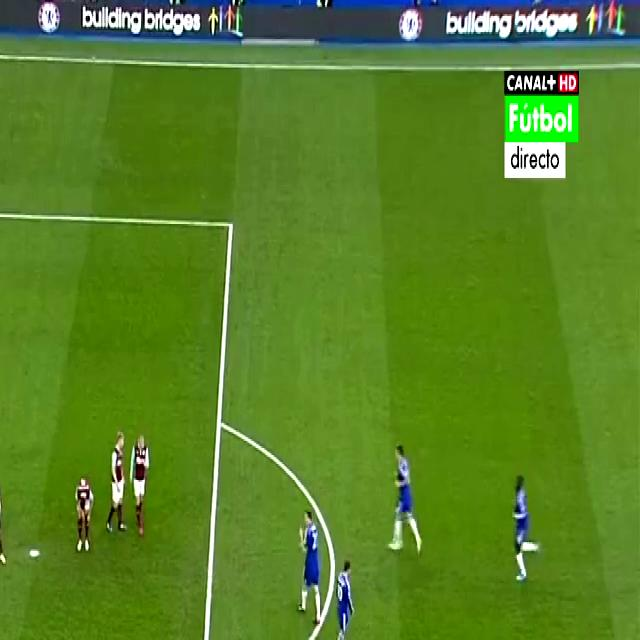soccer-player: (384, 433, 424, 565), (508, 470, 546, 593), (296, 500, 324, 634), (130, 425, 157, 547), (331, 549, 362, 640), (104, 411, 126, 535), (72, 476, 97, 563), (0, 461, 13, 583)
